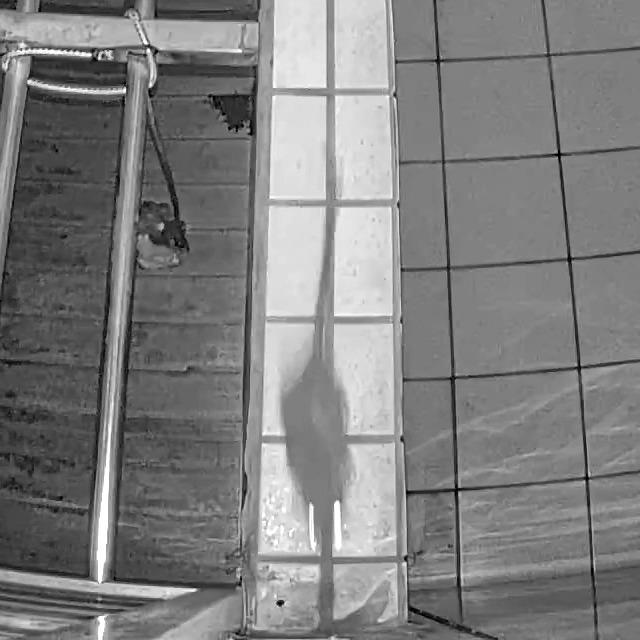rat: (282, 160, 354, 556)
